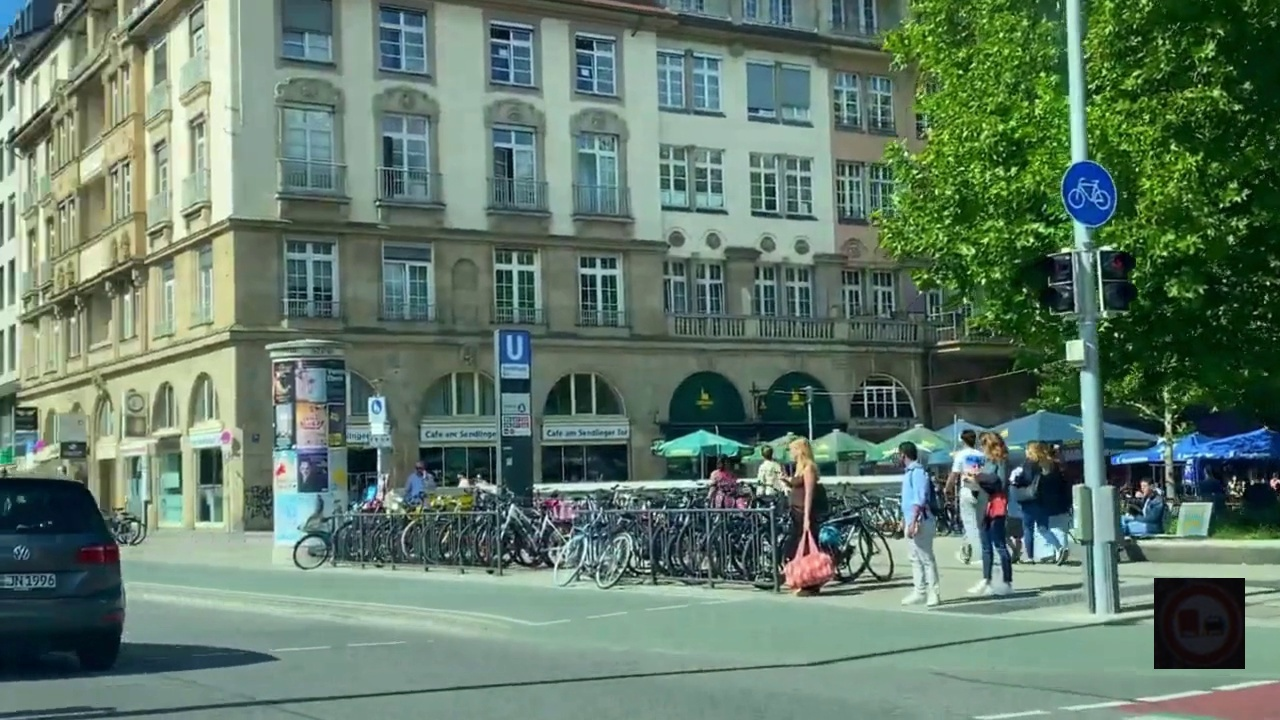No pass >3.5t: (1154, 578, 1245, 669)
